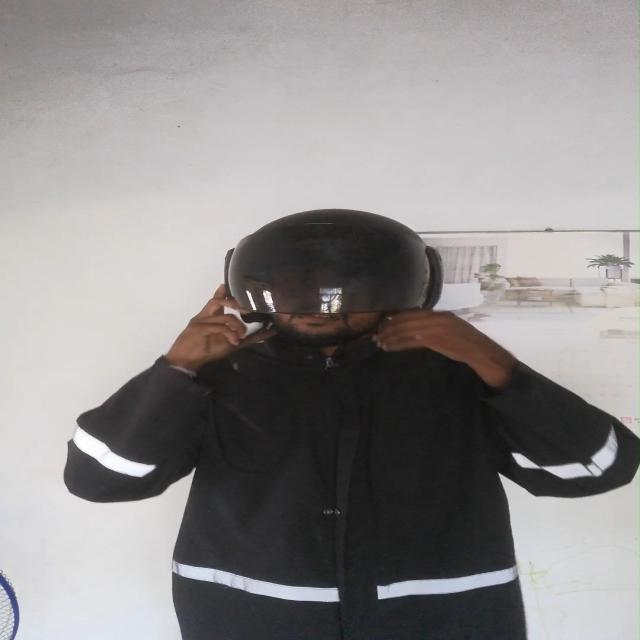Helmet_Wearer: (176, 198, 464, 354)
Jacket_Wearer: (66, 303, 640, 639)
Person: (65, 235, 628, 640), (557, 605, 559, 606)
